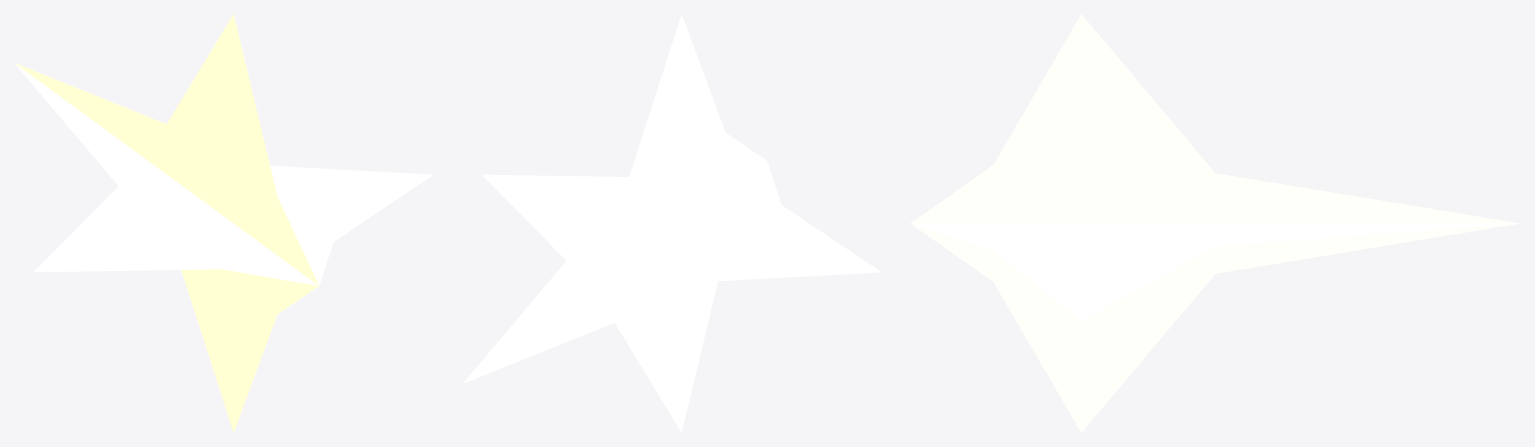
The model's file is muzzle_star.glb.
The picture shows the model from 3 angles, left to right: view 1: azimuth 30°, elevation 25°; view 2: azimuth 150°, elevation 25°; view 3: azimuth 270°, elevation 25°; orthographic projection.
Visible parts, largest first — view 1: muzzle_star; view 2: muzzle_star; view 3: muzzle_star.
Part boxes in pixels (x1,y1,x2,y2): muzzle_star: (14, 14, 433, 432); muzzle_star: (462, 14, 881, 432); muzzle_star: (910, 14, 1520, 432).
Size of the model in its own units: 1 by 1 by 1.32.
